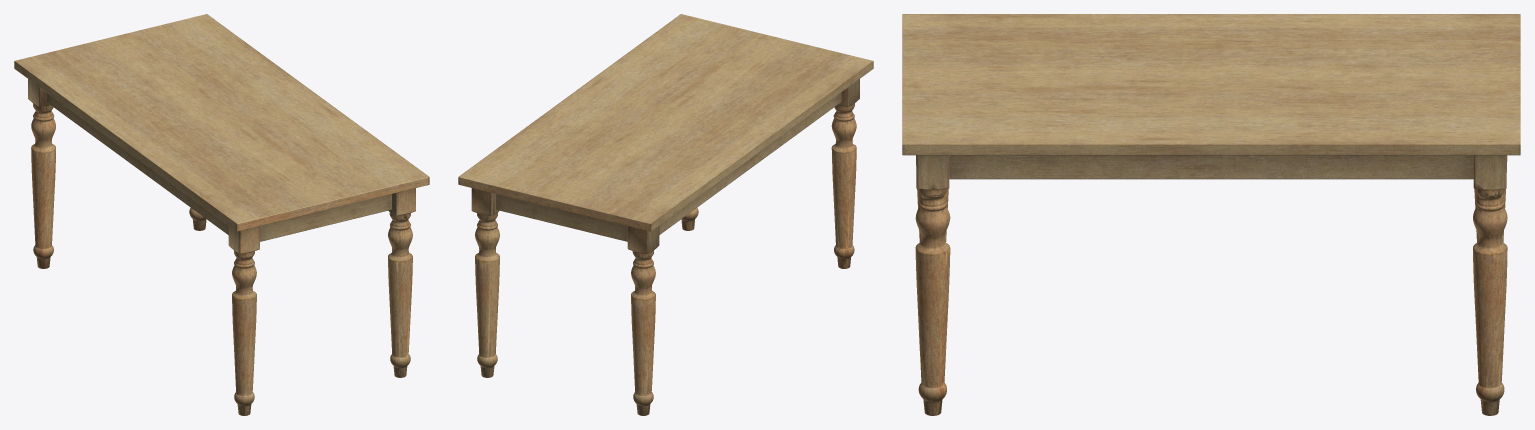
The model's file is table2.glb.
3 renders of one model, left to right at view 1: azimuth 30°, elevation 25°; view 2: azimuth 150°, elevation 25°; view 3: azimuth 270°, elevation 25°, orthographic. The views are drawn at different scales.
Parts seen in each view (by area): view 1: Table; view 2: Table; view 3: Table.
Boxes of the visible parts, left/top/right/bottom form: Table: left=14, top=14, right=429, bottom=415; Table: left=458, top=14, right=873, bottom=415; Table: left=902, top=14, right=1520, bottom=415.
Size of the model in its own units: 0.762 by 0.7627 by 1.52.
Materials: 1 (1 with a texture image).
